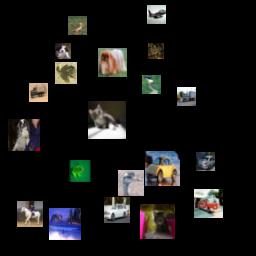airplane: (49, 208, 81, 240), (147, 5, 166, 24)
automobile: (145, 151, 180, 186), (104, 197, 130, 223), (196, 152, 215, 171)
bird: (118, 170, 144, 196), (68, 16, 87, 35), (142, 75, 161, 94)
cat: (88, 101, 126, 139), (140, 204, 175, 239)
dog: (8, 119, 40, 151), (98, 48, 127, 77), (55, 43, 71, 59)
frog: (69, 160, 91, 182), (55, 62, 77, 84), (148, 43, 164, 59)
truck: (194, 189, 223, 218), (177, 87, 196, 106), (29, 83, 48, 102)
